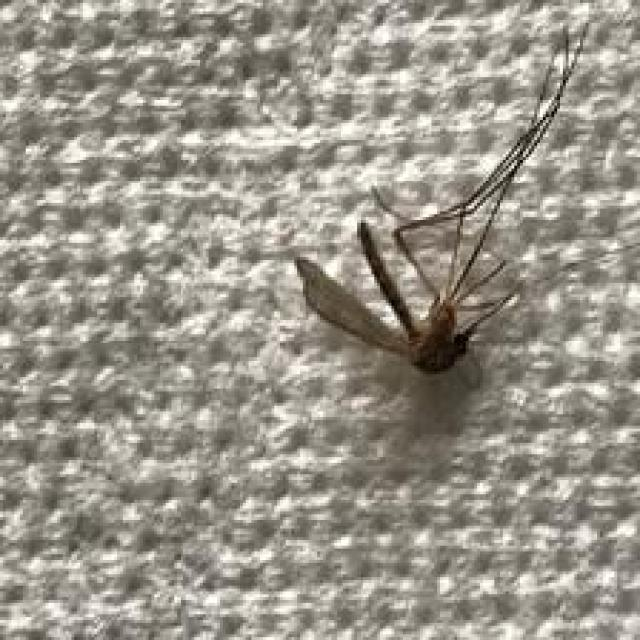Culex: (292, 19, 592, 387)
